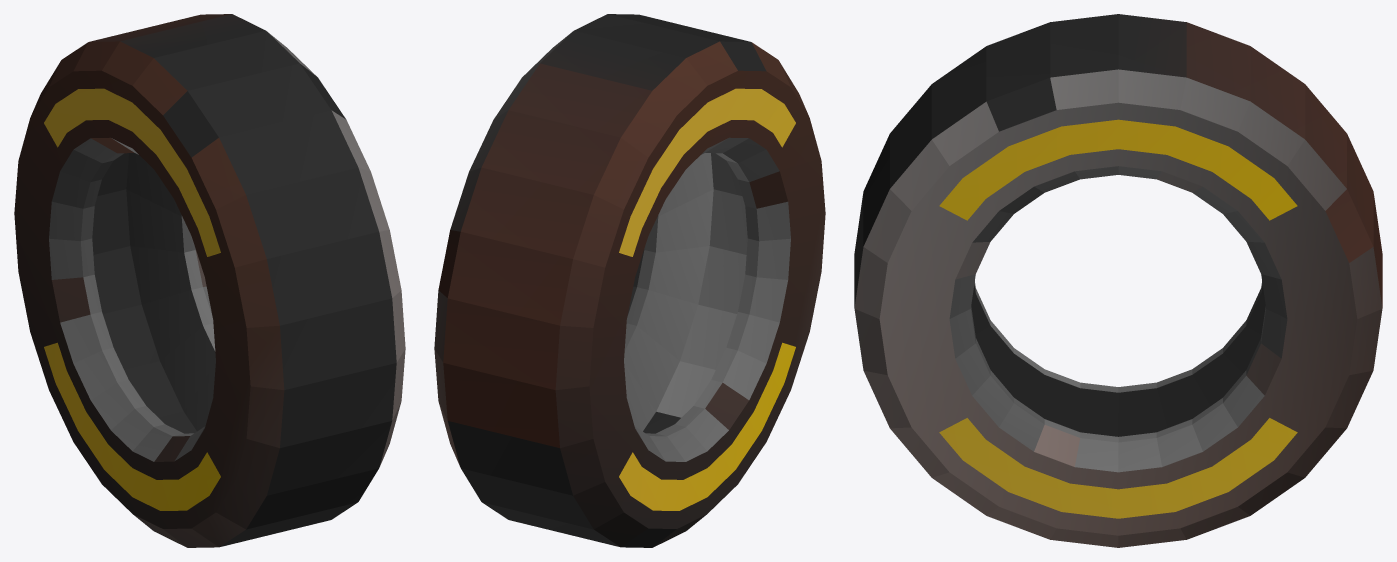
Rendered from TiresLvl3.fbx.
3 renders of one model, left to right at view 1: azimuth 30°, elevation 25°; view 2: azimuth 150°, elevation 25°; view 3: azimuth 270°, elevation 25°, orthographic.
Visible parts, largest first — view 1: tires_lvl3; view 2: tires_lvl3; view 3: tires_lvl3.
Boxes of the visible parts, x1=… form: tires_lvl3: x1=14, y1=14, x2=405, y2=547; tires_lvl3: x1=434, y1=14, x2=825, y2=547; tires_lvl3: x1=854, y1=14, x2=1382, y2=547.
Bounding box in the file's own units: 0.3428 × 1 × 1.
